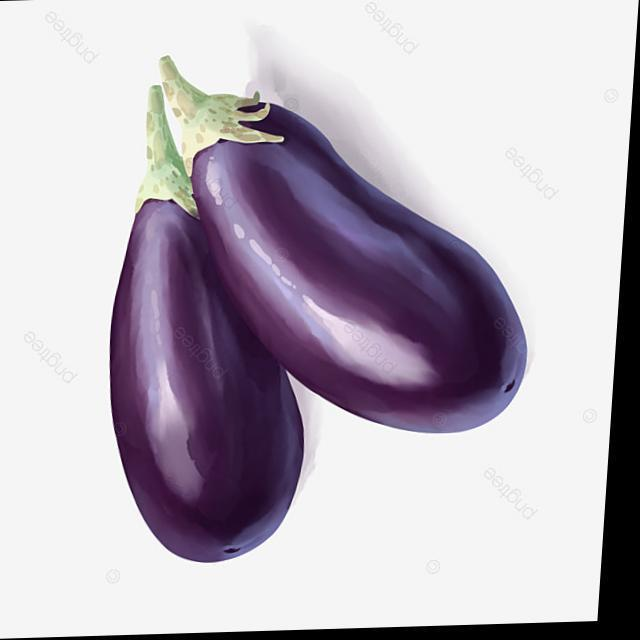eggplant: (59, 46, 572, 616)
